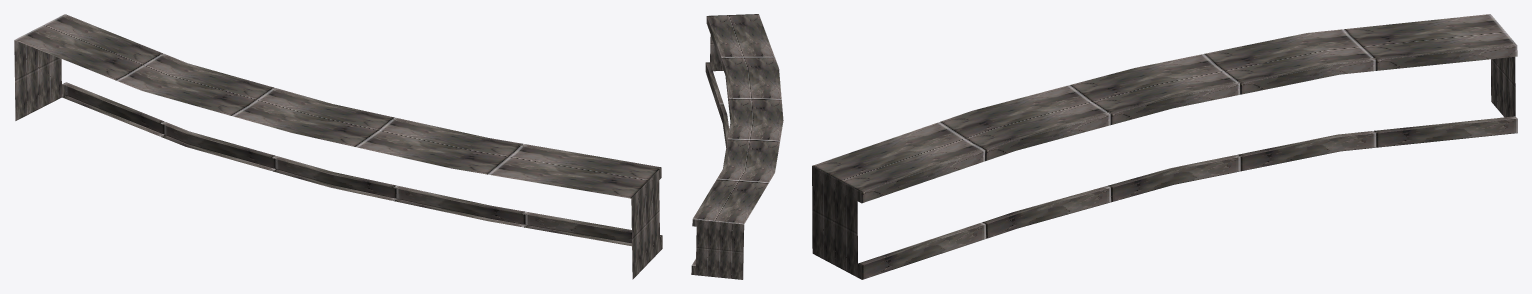
Rendered from CH09_SMAUG_PLAYSURFACE_LAIR22.fbx.
3 views of the same model, side by side, from view 1: azimuth 30°, elevation 25°; view 2: azimuth 150°, elevation 25°; view 3: azimuth 270°, elevation 25° (orthographic). The views are drawn at different scales.
Parts seen in each view (by area): view 1: CH09_SMAUG_PLAYSURFACE_LAIR22; view 2: CH09_SMAUG_PLAYSURFACE_LAIR22; view 3: CH09_SMAUG_PLAYSURFACE_LAIR22.
Part boxes in pixels (left/top/right/bottom): CH09_SMAUG_PLAYSURFACE_LAIR22: left=14, top=14, right=662, bottom=279; CH09_SMAUG_PLAYSURFACE_LAIR22: left=691, top=14, right=783, bottom=279; CH09_SMAUG_PLAYSURFACE_LAIR22: left=812, top=14, right=1517, bottom=279.
Bounding box in the file's own units: 97250 × 22664 × 158626.
Materials: 1 (1 with a texture image).
